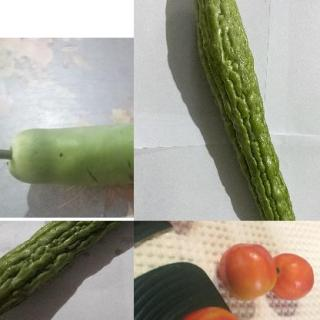Tomat: (213, 238, 317, 307)
